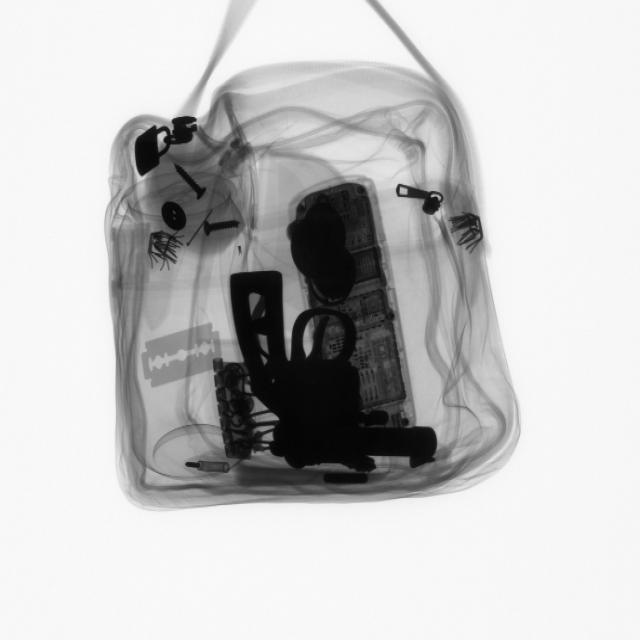BLADE: (137, 316, 227, 392)
GUN: (234, 261, 439, 476)
SCREW: (169, 158, 211, 204), (201, 215, 248, 241)
